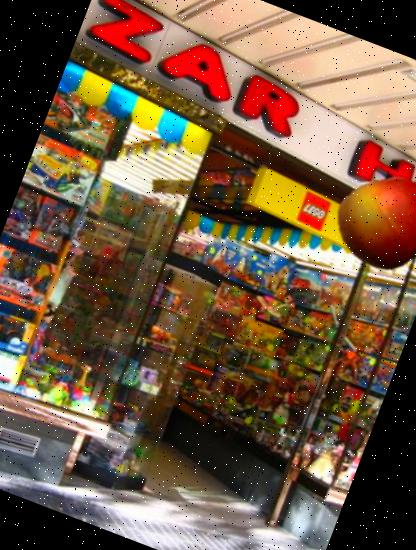Apple: (321, 155, 416, 285)
